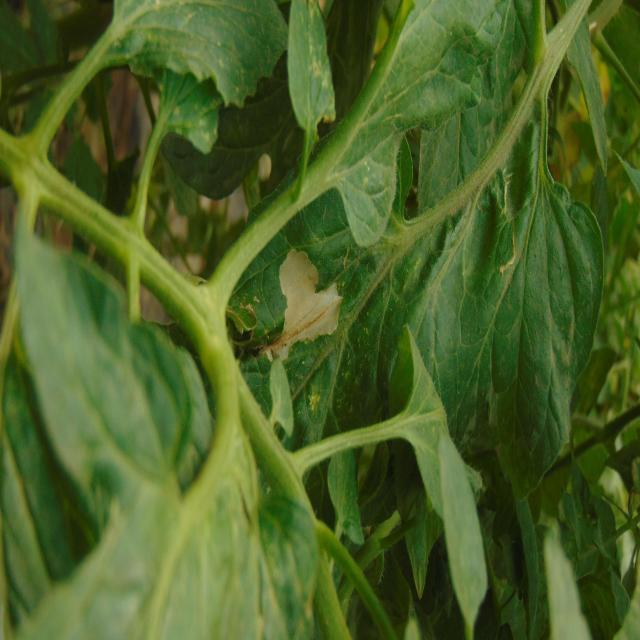Tuta absoluta: (264, 246, 349, 367)
